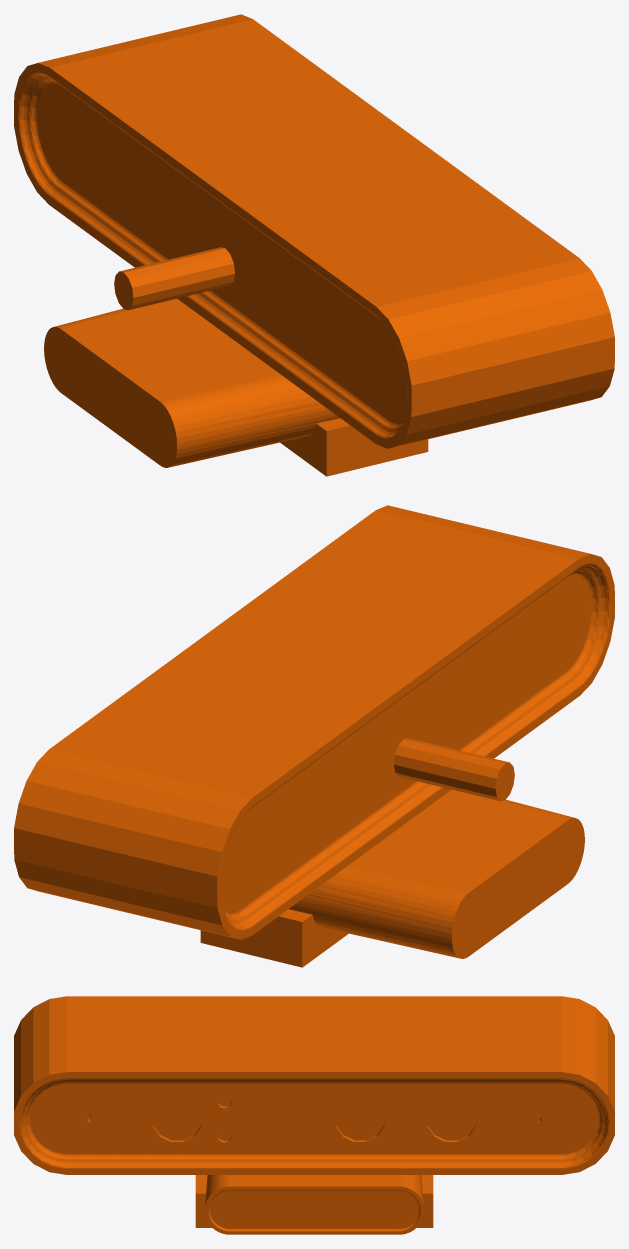
The model's file is camera.obj.
3 renders of one model, top to bottom at view 1: azimuth 30°, elevation 25°; view 2: azimuth 150°, elevation 25°; view 3: azimuth 270°, elevation 25°, orthographic. The views are drawn at different scales.
Parts seen in each view (by area): view 1: camera_link; view 2: camera_link; view 3: camera_link.
Part boxes in pixels (bbox=[...]): camera_link: bbox=[14, 14, 614, 476]; camera_link: bbox=[14, 505, 614, 967]; camera_link: bbox=[14, 996, 614, 1234].
Bounding box in the file's own units: 0.08 × 0.06 × 0.18.
